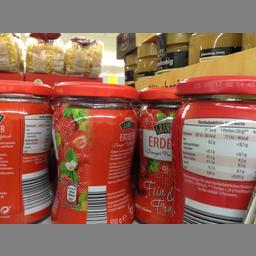jam: (172, 75, 254, 224), (50, 81, 134, 222), (0, 79, 53, 223), (132, 86, 178, 223)
